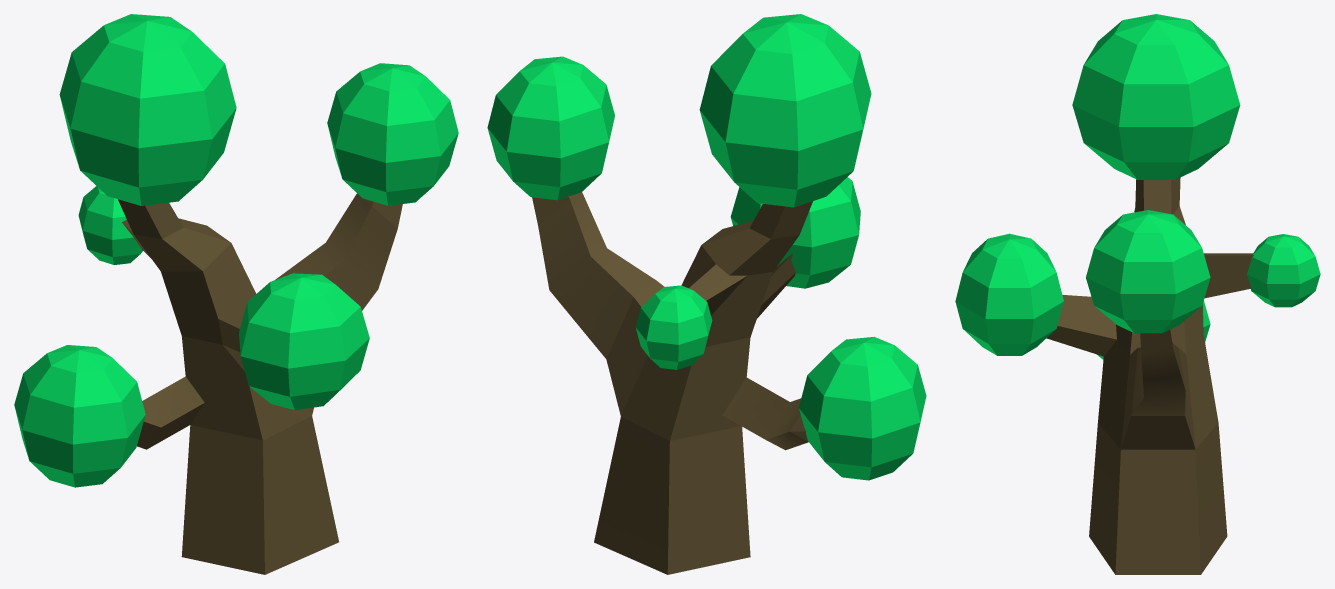
File: tree_3.fbx
3 views of the same model, side by side, from view 1: azimuth 30°, elevation 25°; view 2: azimuth 150°, elevation 25°; view 3: azimuth 270°, elevation 25° (orthographic). The views are drawn at different scales.
Parts seen in each view (by area): view 1: tree_base3, leaf_2, leaf_4, leaf_15, leaf_1, leaf_3; view 2: tree_base3, leaf_2, leaf_4, leaf_15, leaf_1, leaf_3; view 3: tree_base3, leaf_2, leaf_4, leaf_1, leaf_3.
Boxes of the visible parts, <box> form: tree_base3: <box>118,193,402,574</box>; leaf_2: <box>59,14,236,205</box>; leaf_4: <box>327,63,458,205</box>; leaf_15: <box>14,345,145,487</box>; leaf_1: <box>239,273,369,409</box>; leaf_3: <box>78,186,142,264</box>; tree_base3: <box>532,192,812,574</box>; leaf_2: <box>699,14,871,207</box>; leaf_4: <box>487,56,614,200</box>; leaf_15: <box>799,336,926,480</box>; leaf_1: <box>730,177,860,288</box>; leaf_3: <box>635,285,712,369</box>; tree_base3: <box>1046,177,1253,574</box>; leaf_2: <box>1072,14,1240,179</box>; leaf_4: <box>1086,210,1210,333</box>; leaf_1: <box>955,233,1063,355</box>; leaf_3: <box>1247,234,1320,307</box>.
Bounding box in the file's own units: 5.93 × 7.35 × 5.05.
